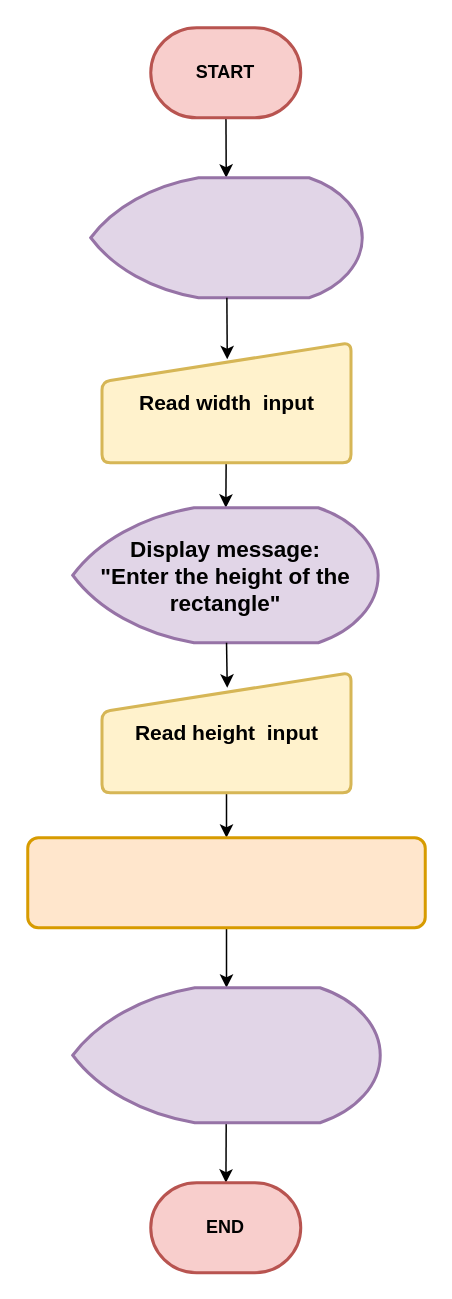
This 452x1299 diagram has some shape labels left out. Each missing label, with the centre of its shape:
Calculate area = width * height: pixel 226 882
Display message: "Enter the width of the rectangle": pixel 225 237
Display message: "The area of the rectagle is" , area: pixel 225 1055
